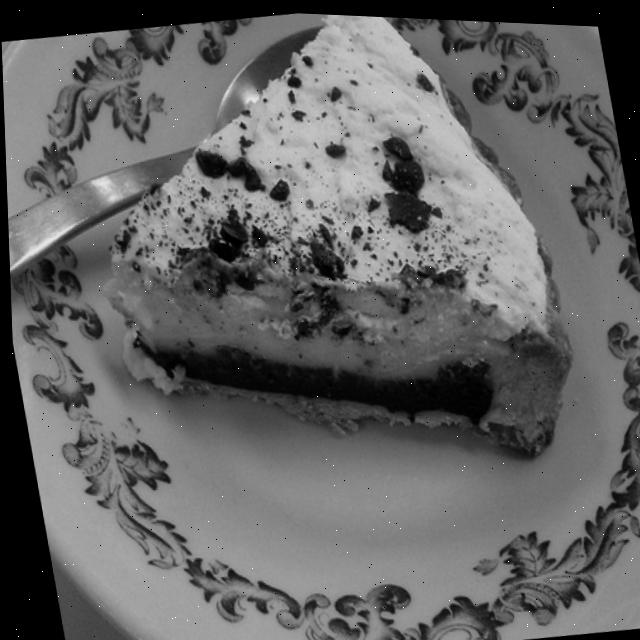蛋糕甜品: (23, 1, 640, 565)
